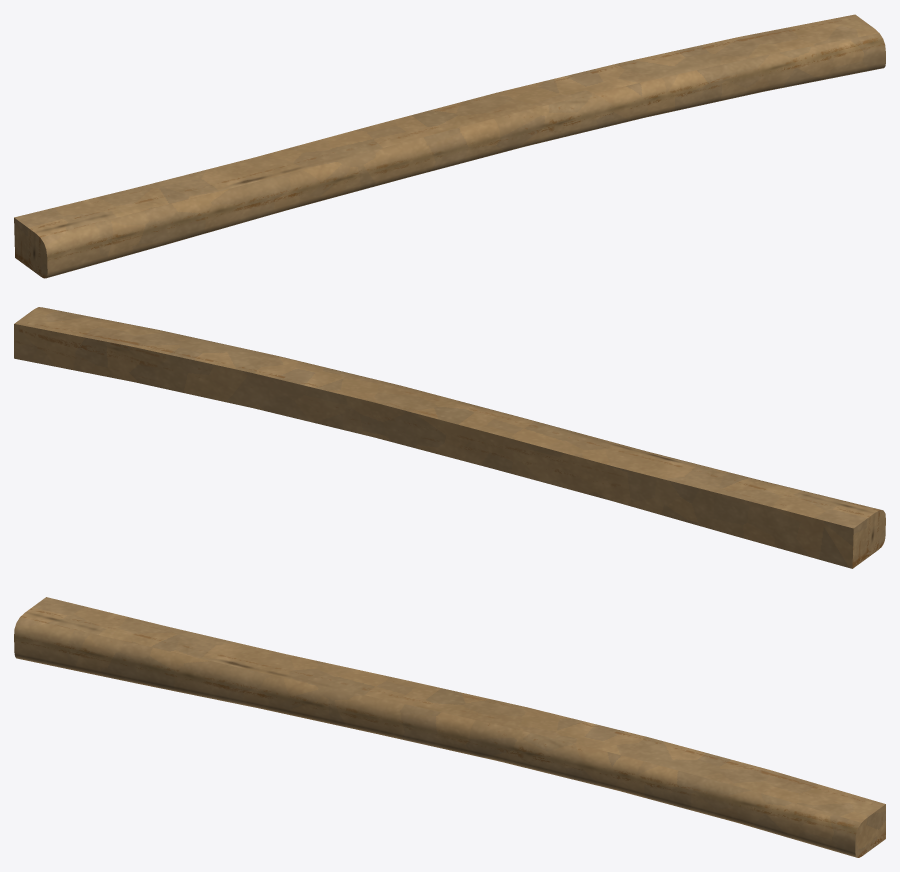
Rendered from 유교수님1.fbx.
The picture shows the model from 3 angles, top to bottom: view 1: azimuth 30°, elevation 25°; view 2: azimuth 150°, elevation 25°; view 3: azimuth 330°, elevation 25°; orthographic projection.
Visible parts, largest first — view 1: 나무2; view 2: 나무2; view 3: 나무2.
Part boxes in pixels (bbox=[...]): 나무2: bbox=[14, 14, 885, 278]; 나무2: bbox=[14, 307, 885, 568]; 나무2: bbox=[14, 597, 885, 857].
Bounding box in the file's own units: 706 × 39.15 × 47.62.
